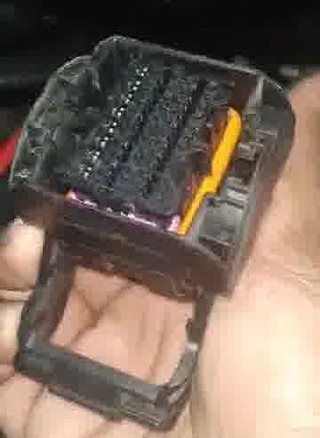connector: (9, 35, 296, 303)
